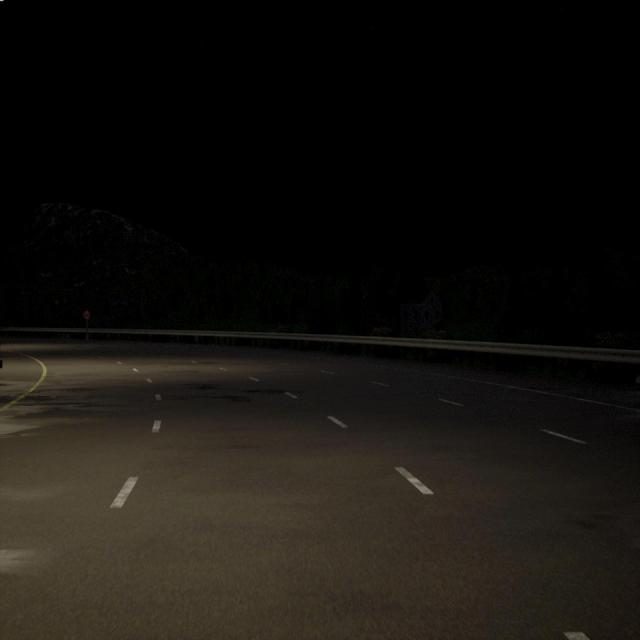Traffic_Signs: (83, 310, 90, 319)
